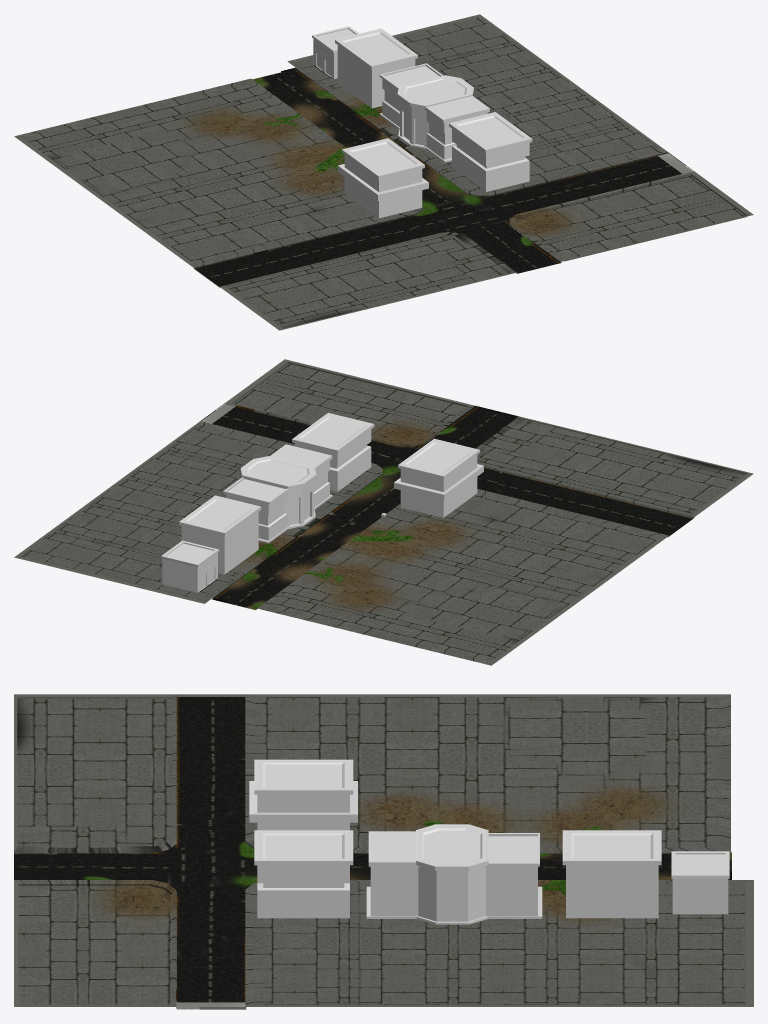
Rendered from casas.fbx.
3 renders of one model, top to bottom at view 1: azimuth 30°, elevation 25°; view 2: azimuth 150°, elevation 25°; view 3: azimuth 270°, elevation 25°, orthographic. The views are drawn at different scales.
Parts seen in each view (by area): view 1: Plane, Plane.001, Cube.005, Cube.007, Cube.006, Cube.004, Cube.001, Cube.002; view 2: Plane, Plane.001, Cube.005, Cube.007, Cube.004, Cube.006, Cube.002, Cube.001; view 3: Plane, Plane.001, Cube.005, Cube.004, Cube.006, Cube.007, Cube.002, Cube.001.
Boxes of the visible parts, left/top/right/bottom form: Plane: left=14, top=14, right=753, bottom=330; Plane.001: left=195, top=69, right=693, bottom=286; Cube.005: left=379, top=63, right=489, bottom=162; Cube.007: left=337, top=138, right=428, bottom=218; Cube.006: left=449, top=112, right=532, bottom=191; Cube.004: left=335, top=28, right=417, bottom=108; Cube.001: left=312, top=26, right=358, bottom=53; Cube.002: left=313, top=39, right=337, bottom=78; Plane: left=14, top=359, right=753, bottom=665; Plane.001: left=201, top=402, right=692, bottom=609; Cube.005: left=223, top=444, right=332, bottom=543; Cube.007: left=394, top=438, right=483, bottom=517; Cube.004: left=179, top=495, right=261, bottom=574; Cube.006: left=292, top=413, right=374, bottom=491; Cube.002: left=162, top=553, right=217, bottom=592; Cube.001: left=161, top=540, right=219, bottom=567; Plane: left=14, top=694, right=753, bottom=1009; Plane.001: left=14, top=697, right=731, bottom=1009; Cube.005: left=366, top=824, right=542, bottom=924; Cube.004: left=562, top=830, right=661, bottom=918; Cube.006: left=254, top=830, right=353, bottom=918; Cube.007: left=249, top=759, right=357, bottom=830; Cube.002: left=672, top=879, right=728, bottom=914; Cube.001: left=671, top=851, right=729, bottom=878.
Size of the model in its own units: 28884 by 3015 by 28836.
